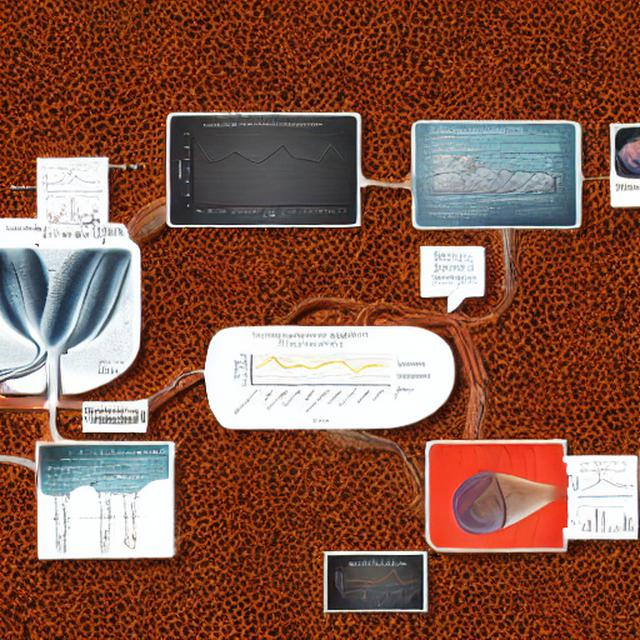Graph: (175, 119, 352, 225), (227, 327, 394, 425), (333, 557, 423, 610), (38, 165, 103, 203), (569, 504, 636, 536), (428, 265, 478, 294)
